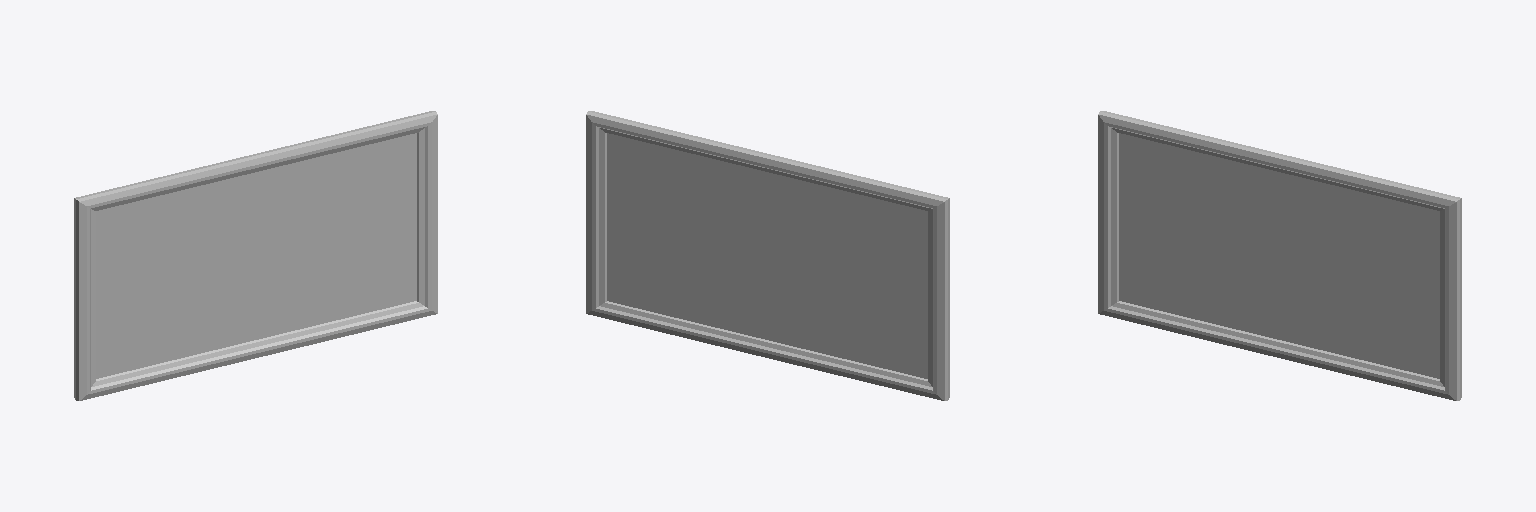
The model's file is Mirror.obj.
3 renders of one model, left to right at view 1: azimuth 30°, elevation 25°; view 2: azimuth 150°, elevation 25°; view 3: azimuth 330°, elevation 25°, orthographic.
Visible parts, largest first — view 1: Plane; view 2: Plane; view 3: Plane.
Part boxes in pixels (bbox=[...]): Plane: bbox=[74, 111, 437, 400]; Plane: bbox=[586, 111, 949, 400]; Plane: bbox=[1098, 111, 1461, 400].
Bounding box in the file's own units: 1.5 × 0.8 × 0.05.